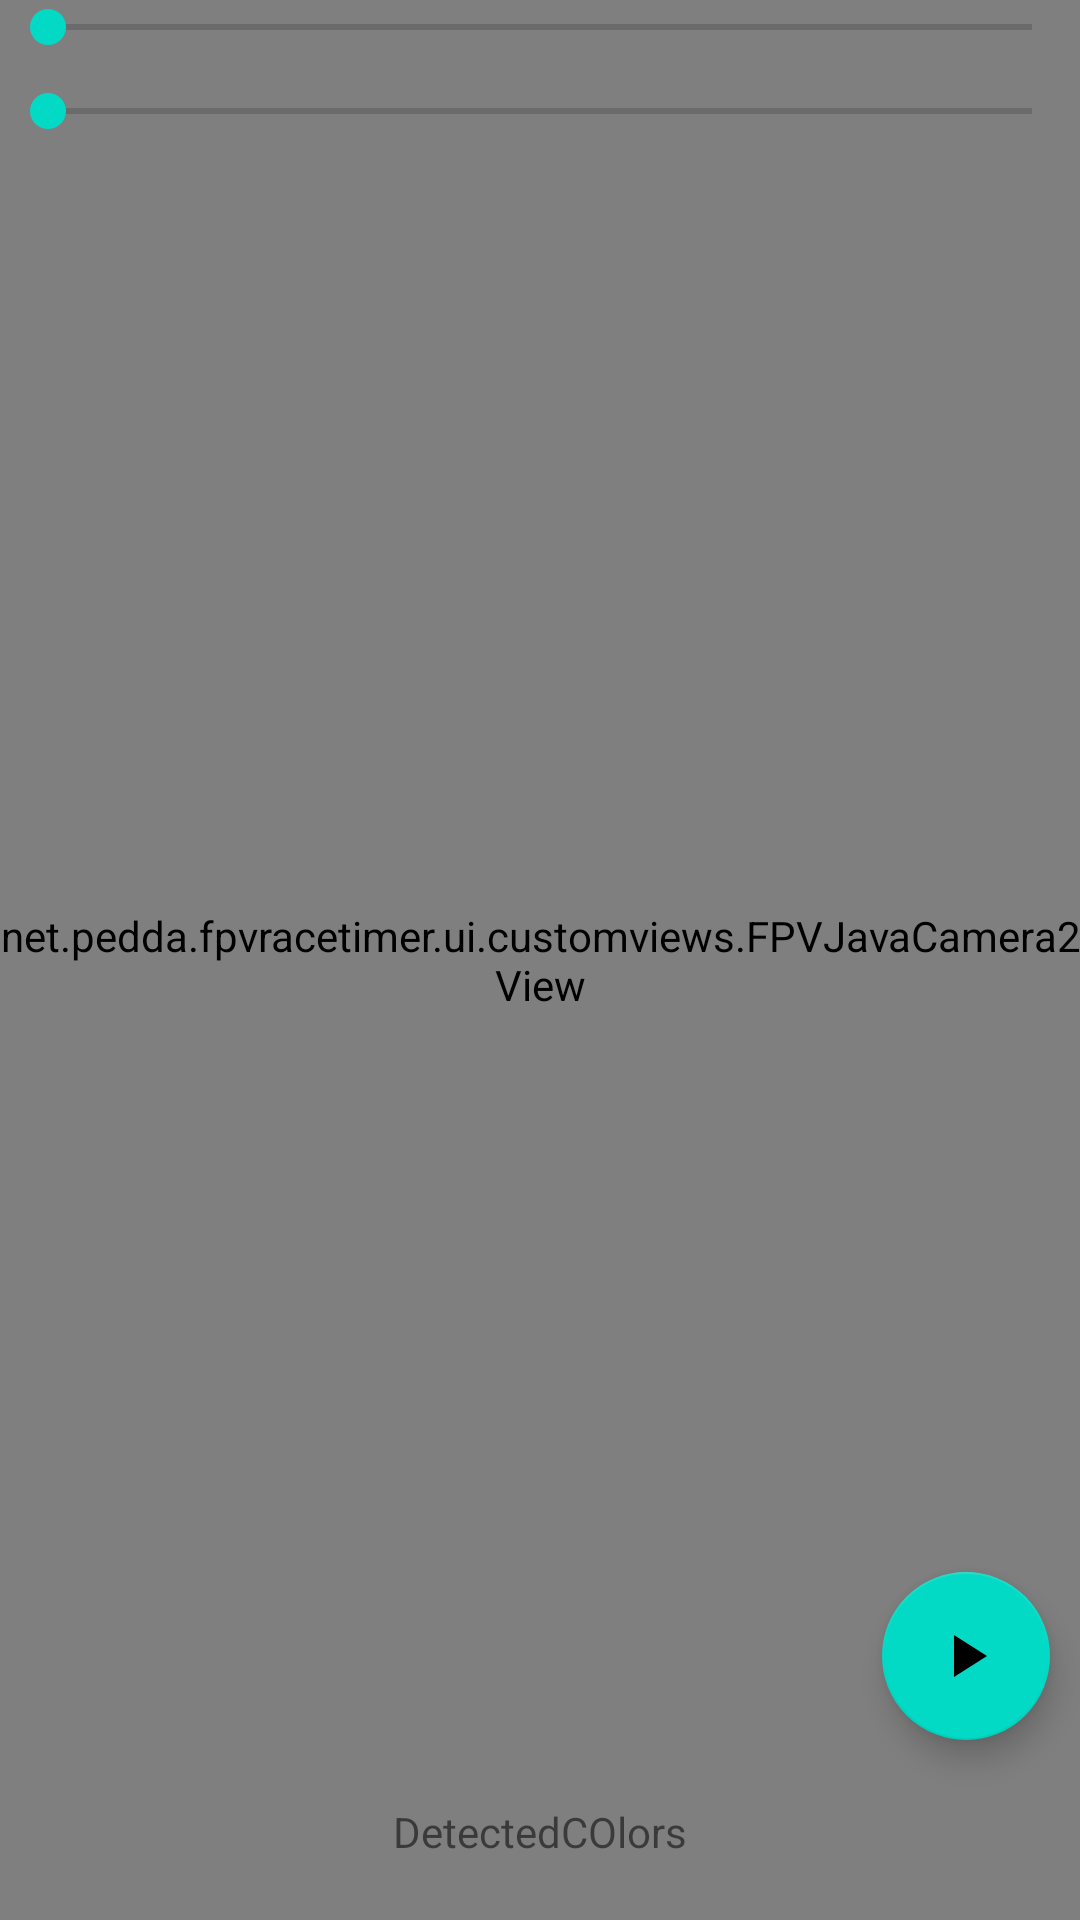

Named icons in this screenshot (1080x1920) and their centers, [x,y]:
Start/Stop Race: [966,1656]
